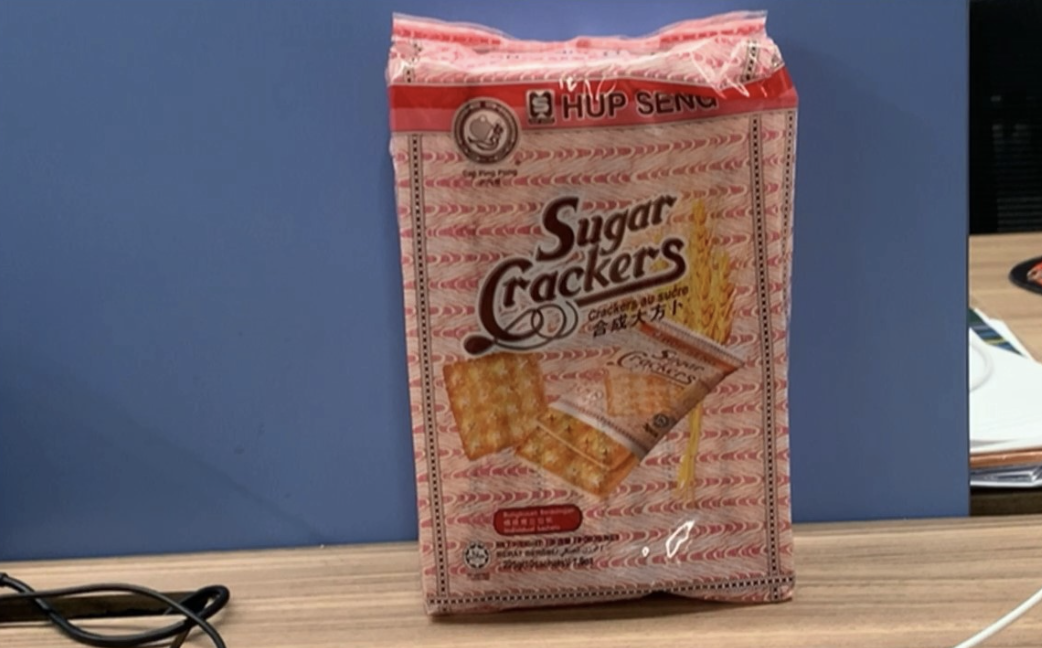crackers_200g-299g: (447, 71, 769, 588)
